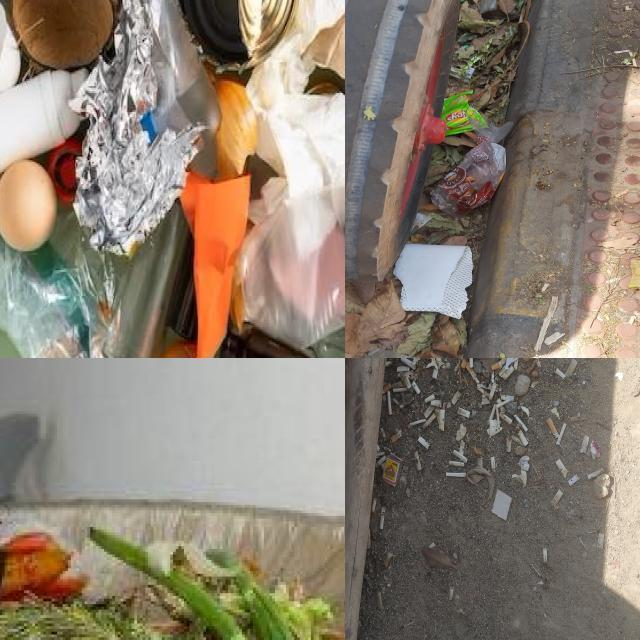Background: (345, 358, 640, 640)
Cig_bud: (556, 459, 569, 479), (546, 418, 559, 438), (514, 414, 528, 431), (496, 396, 514, 409), (556, 424, 566, 446), (566, 358, 577, 377), (550, 491, 563, 507), (587, 468, 605, 479), (453, 450, 468, 463), (423, 412, 436, 427), (413, 451, 422, 472), (376, 453, 387, 470), (492, 358, 506, 371), (390, 429, 402, 444), (580, 435, 590, 453), (502, 366, 514, 381), (402, 373, 412, 390), (500, 412, 513, 425), (401, 358, 416, 369), (439, 409, 446, 431), (457, 407, 471, 418), (495, 405, 502, 427), (409, 418, 426, 427), (518, 431, 528, 446), (489, 383, 497, 401), (597, 532, 605, 550), (418, 437, 429, 450), (380, 507, 386, 530), (387, 390, 392, 416), (451, 392, 461, 405), (446, 472, 467, 478), (555, 368, 566, 379), (384, 552, 392, 567), (377, 591, 383, 610), (489, 407, 496, 422), (412, 381, 420, 394), (468, 366, 476, 379), (490, 457, 496, 474), (425, 394, 436, 403), (569, 474, 578, 485), (397, 366, 411, 373), (458, 440, 465, 453), (367, 530, 372, 548), (542, 548, 548, 563), (430, 399, 441, 407), (448, 461, 464, 466), (376, 451, 386, 459), (435, 358, 443, 368), (448, 588, 454, 601), (372, 498, 377, 513), (461, 358, 467, 369), (392, 388, 408, 392), (384, 360, 392, 368), (507, 438, 511, 453), (469, 358, 474, 369), (478, 457, 483, 466), (429, 543, 436, 548), (469, 358, 472, 368), (509, 420, 511, 424)
Garbage: (345, 0, 530, 358), (0, 513, 345, 640)
Metal: (102, 201, 189, 358)
Plastic_Bag: (431, 120, 513, 220), (478, 0, 500, 17)
Plastic_wraper: (442, 91, 489, 136)
contaminated_waste: (0, 0, 305, 358), (221, 177, 345, 358)
